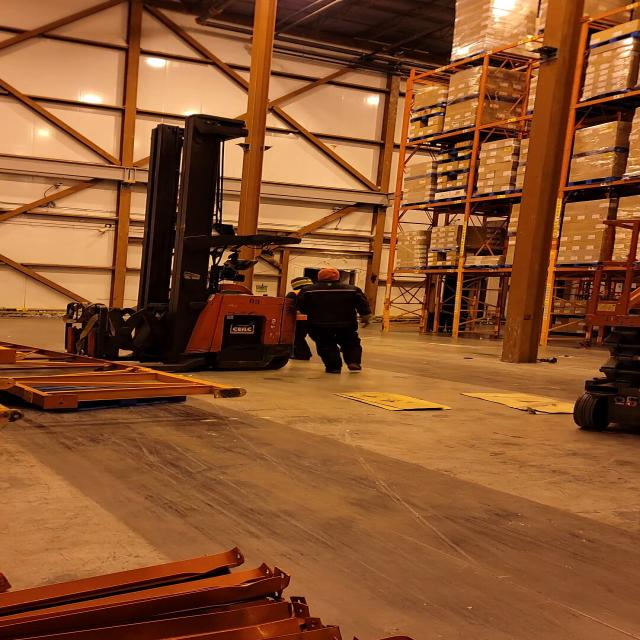forklift: (58, 122, 303, 376)
human: (287, 268, 370, 377), (281, 273, 333, 361)
objectofinterest: (0, 340, 249, 407), (460, 388, 589, 416), (329, 388, 462, 412)
